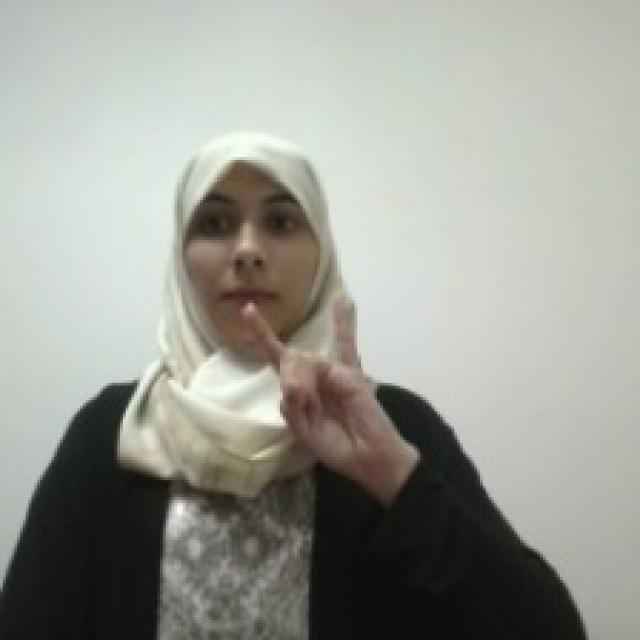No: (239, 287, 382, 467)
